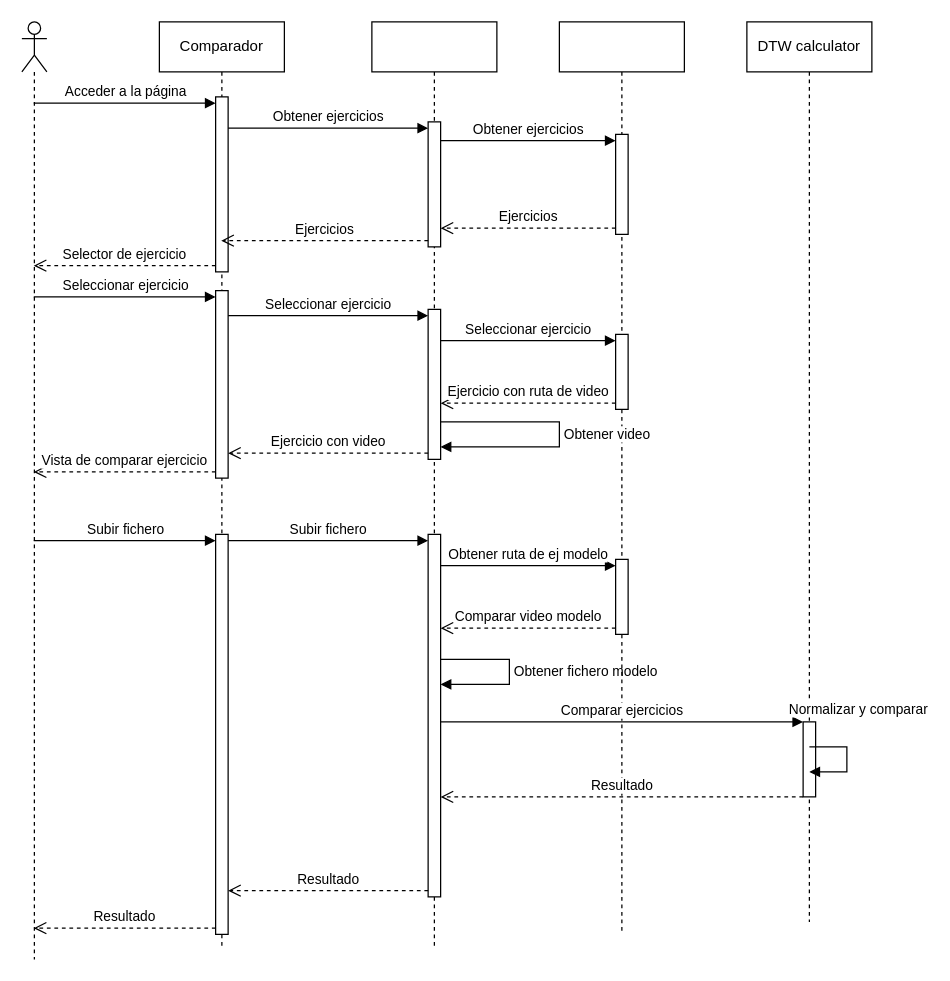
This 950x981 diagram has some shape labels left out. Here are the shapes that lost their labels. From the top down, the box of each, then its label:
(371, 21, 497, 947): API
(558, 21, 684, 934): Base de datos
